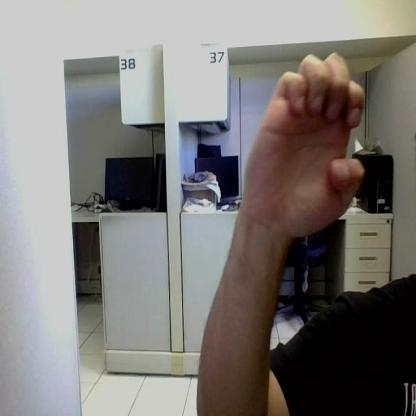E: (248, 51, 364, 236)
